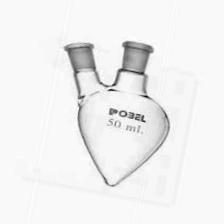Pear shaped flask: (53, 30, 173, 190)
